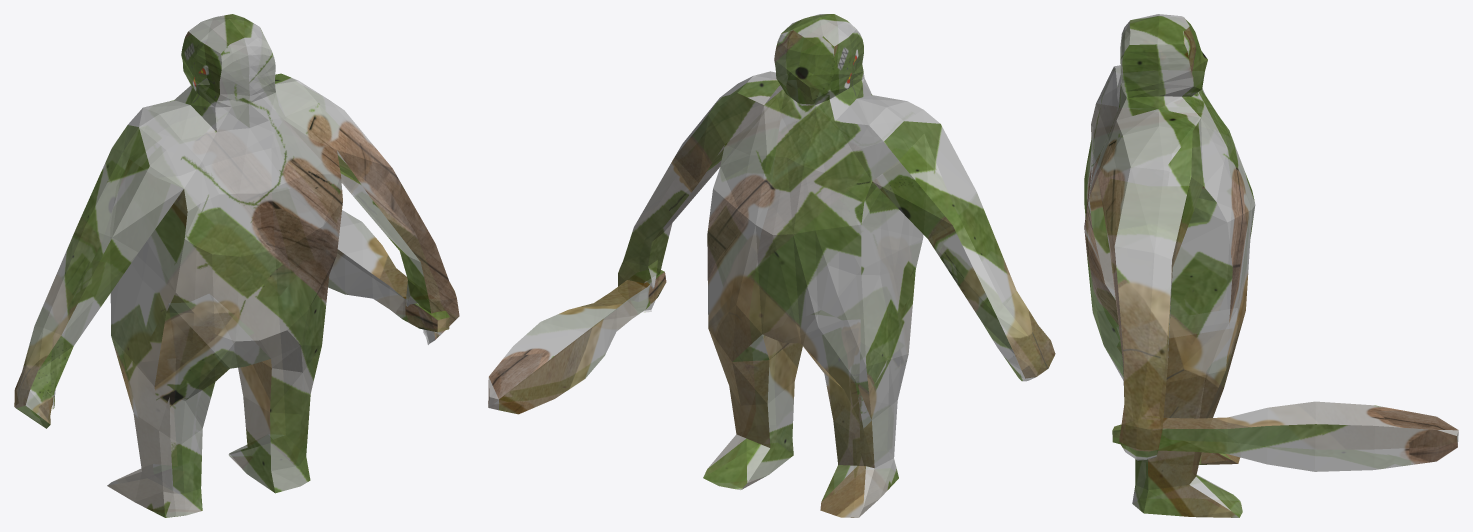
Rendered from Enemigo21.obj.
The picture shows the model from 3 angles, left to right: view 1: azimuth 30°, elevation 25°; view 2: azimuth 150°, elevation 25°; view 3: azimuth 270°, elevation 25°; orthographic projection. The views are drawn at different scales.
Visible parts, largest first — view 1: Cube; view 2: Cube; view 3: Cube.
Part boxes in pixels (bbox=[...]): Cube: bbox=[14, 14, 459, 517]; Cube: bbox=[488, 14, 1055, 517]; Cube: bbox=[1084, 14, 1458, 517].
Bounding box in the file's own units: 2.61 × 2.72 × 1.97.
